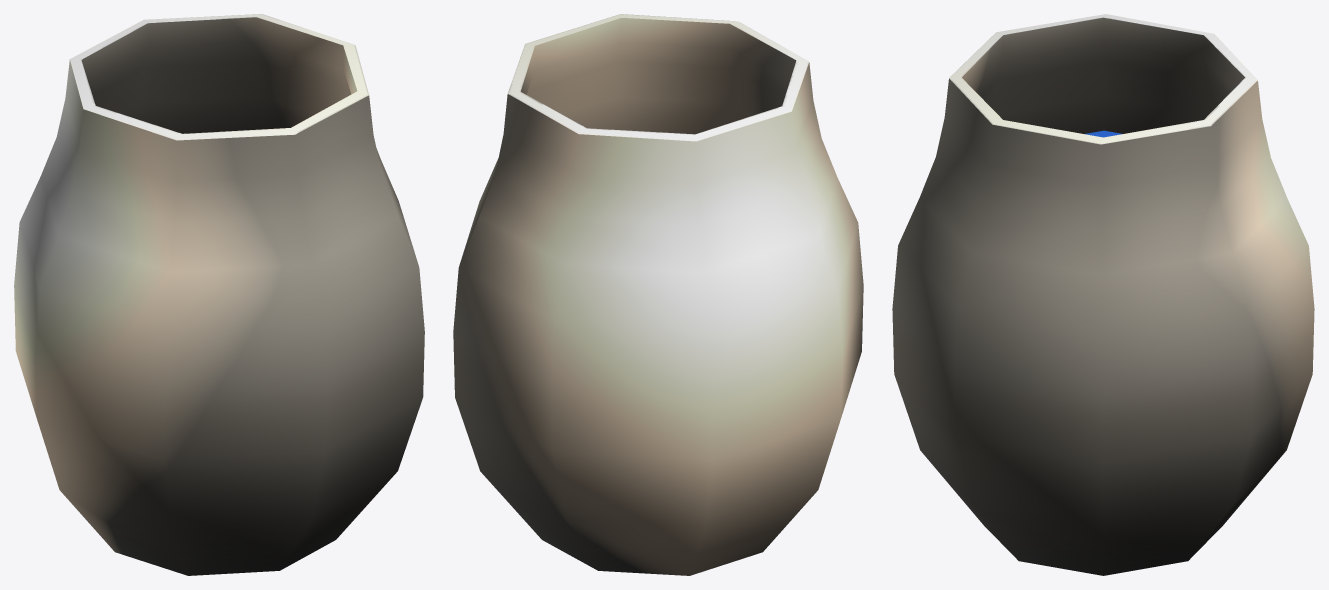
Rendered from TestCocktail.glb.
3 views of the same model, side by side, from view 1: azimuth 30°, elevation 25°; view 2: azimuth 150°, elevation 25°; view 3: azimuth 270°, elevation 25° (orthographic).
Parts seen in each view (by area): view 1: CocktailGlass; view 2: CocktailGlass; view 3: CocktailGlass.
Part boxes in pixels (left/top/right/bottom): CocktailGlass: left=14, top=14, right=424, bottom=575; CocktailGlass: left=453, top=14, right=863, bottom=575; CocktailGlass: left=892, top=14, right=1314, bottom=575.
Bounding box in the file's own units: 0.0606 × 0.071 × 0.0606.
Materials: 2 (2 with a texture image).
